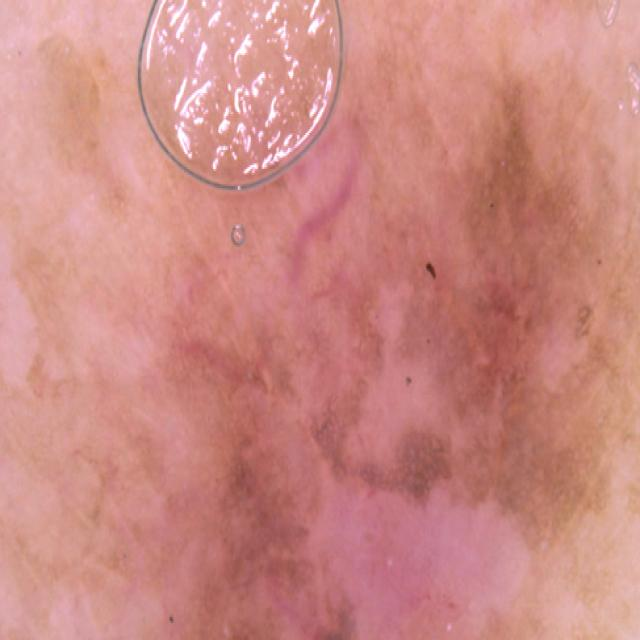Dermatofibroma: (155, 230, 557, 640)
